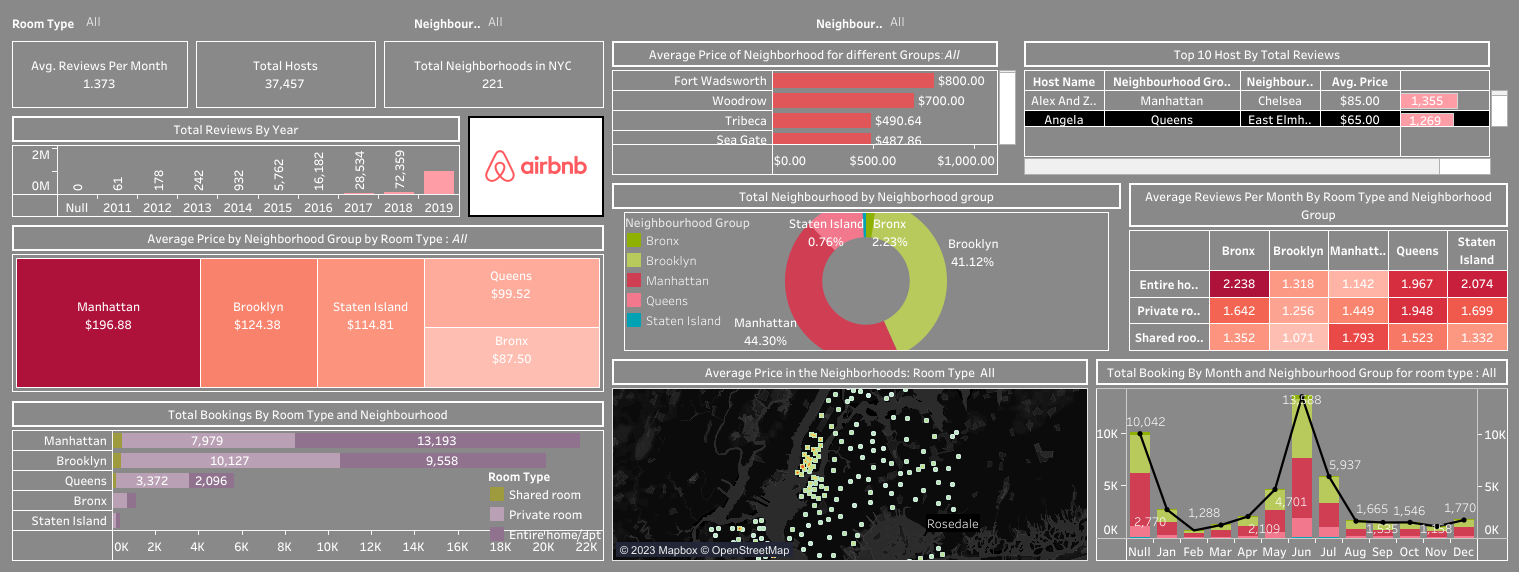

What the dashboard file says about the page in this screenshot:
{"tool":"tableau","page":{"name":"Dashboard 1","canvas":[1000,1000],"units":"permille","ordinal":0},"visuals":[{"type":"filter","title":"Sheet 7","param":"[federated.0swhs4x1l0dr001c5qusw19h3rkp].[none:room_type:nk]","box":[5.3,13,264.4,50.5]},{"type":"filter","title":"Sheet 12","param":"[federated.0swhs4x1l0dr001c5qusw19h3rkp].[none:neighbourhood:nk]","box":[269.6,13,264.4,50.5]},{"type":"filter","title":"Sheet 8","param":"[federated.0swhs4x1l0dr001c5qusw19h3rkp].[none:neighbourhood_group:nk]","box":[534,13,460.8,50.5]},{"type":"worksheet","title":"Sheet 12","mark":"Automatic","box":[5.3,63.4,120.9,131.5]},{"type":"worksheet","title":"Sheet 10","mark":"Automatic","box":[126.2,63.4,123.7,131.5]},{"type":"worksheet","title":"Sheet 11","mark":"Automatic","box":[249.8,63.4,150.2,131.5]},{"type":"worksheet","title":"Sheet 8","mark":"Automatic","rows":["neighbourhood"],"cols":["price"],"box":[400,63.4,271.2,248.8]},{"type":"worksheet","title":"Sheet 4","mark":"Automatic","rows":["host_name","neighbourhood_group","neighbourhood","price"],"cols":["number_of_reviews"],"box":[671.2,63.4,323.5,248.8]},{"type":"worksheet","title":"Sheet 6","mark":"Bar","rows":["number_of_reviews"],"cols":["last_review"],"box":[5.3,195,300,191.1]},{"type":"image","param":"Image/Airbnb-Logo.wine.png","box":[305.2,195,94.8,191.1]},{"type":"worksheet","title":"Sheet 3","mark":"Pie","rows":["Calculation_1010495196635176961","Calculation_1010495196635176961"],"box":[400,312.2,339.9,308.3]},{"type":"worksheet","title":"Sheet 9","mark":"Square","rows":["room_type"],"cols":["neighbourhood_group"],"box":[739.9,312.2,254.9,308.3]},{"type":"legend","title":"Sheet 2","param":"[federated.0swhs4x1l0dr001c5qusw19h3rkp].[none:neighbourhood_group:nk]","box":[410.5,368.5,101.3,238.6]},{"type":"worksheet","title":"Sheet 7","mark":"Automatic","box":[5.3,386.1,394.7,306.4]},{"type":"worksheet","title":"Sheet 1","mark":"Heatmap","rows":["latitude"],"cols":["longitude"],"box":[400,620.6,318.2,366.5]},{"type":"worksheet","title":"Sheet 2","mark":"Bar","rows":["name","name"],"cols":["last_review"],"box":[718.2,620.6,276.6,366.5]},{"type":"worksheet","title":"Sheet 5","mark":"Automatic","rows":["neighbourhood_group"],"cols":["name"],"box":[5.3,692.5,394.7,294.6]},{"type":"legend","title":"Sheet 5","param":"[federated.0swhs4x1l0dr001c5qusw19h3rkp].[none:room_type:nk]","box":[320.5,812,116.4,153.2]}]}

Visuals, with their boxes on the dashboard's canvas, which has no fixed pixel size, in thousandths of its width and height (x1, y1, x2, y2). These are canvas units, not pixel positions in the 1519x572 screenshot, which may show the page scaled, cropped or inside an application window:
"Sheet 7" filter: 5/13/270/64
"Sheet 12" filter: 270/13/534/64
"Sheet 8" filter: 534/13/995/64
"Sheet 12" worksheet: 5/63/126/195
"Sheet 10" worksheet: 126/63/250/195
"Sheet 11" worksheet: 250/63/400/195
"Sheet 8" worksheet: 400/63/671/312
"Sheet 4" worksheet: 671/63/995/312
"Sheet 6" worksheet (Bar marks): 5/195/305/386
image: 305/195/400/386
"Sheet 3" worksheet (Pie marks): 400/312/740/620
"Sheet 9" worksheet (Square marks): 740/312/995/620
"Sheet 2" legend: 410/368/512/607
"Sheet 7" worksheet: 5/386/400/692
"Sheet 1" worksheet (Heatmap marks): 400/621/718/987
"Sheet 2" worksheet (Bar marks): 718/621/995/987
"Sheet 5" worksheet: 5/692/400/987
"Sheet 5" legend: 320/812/437/965
